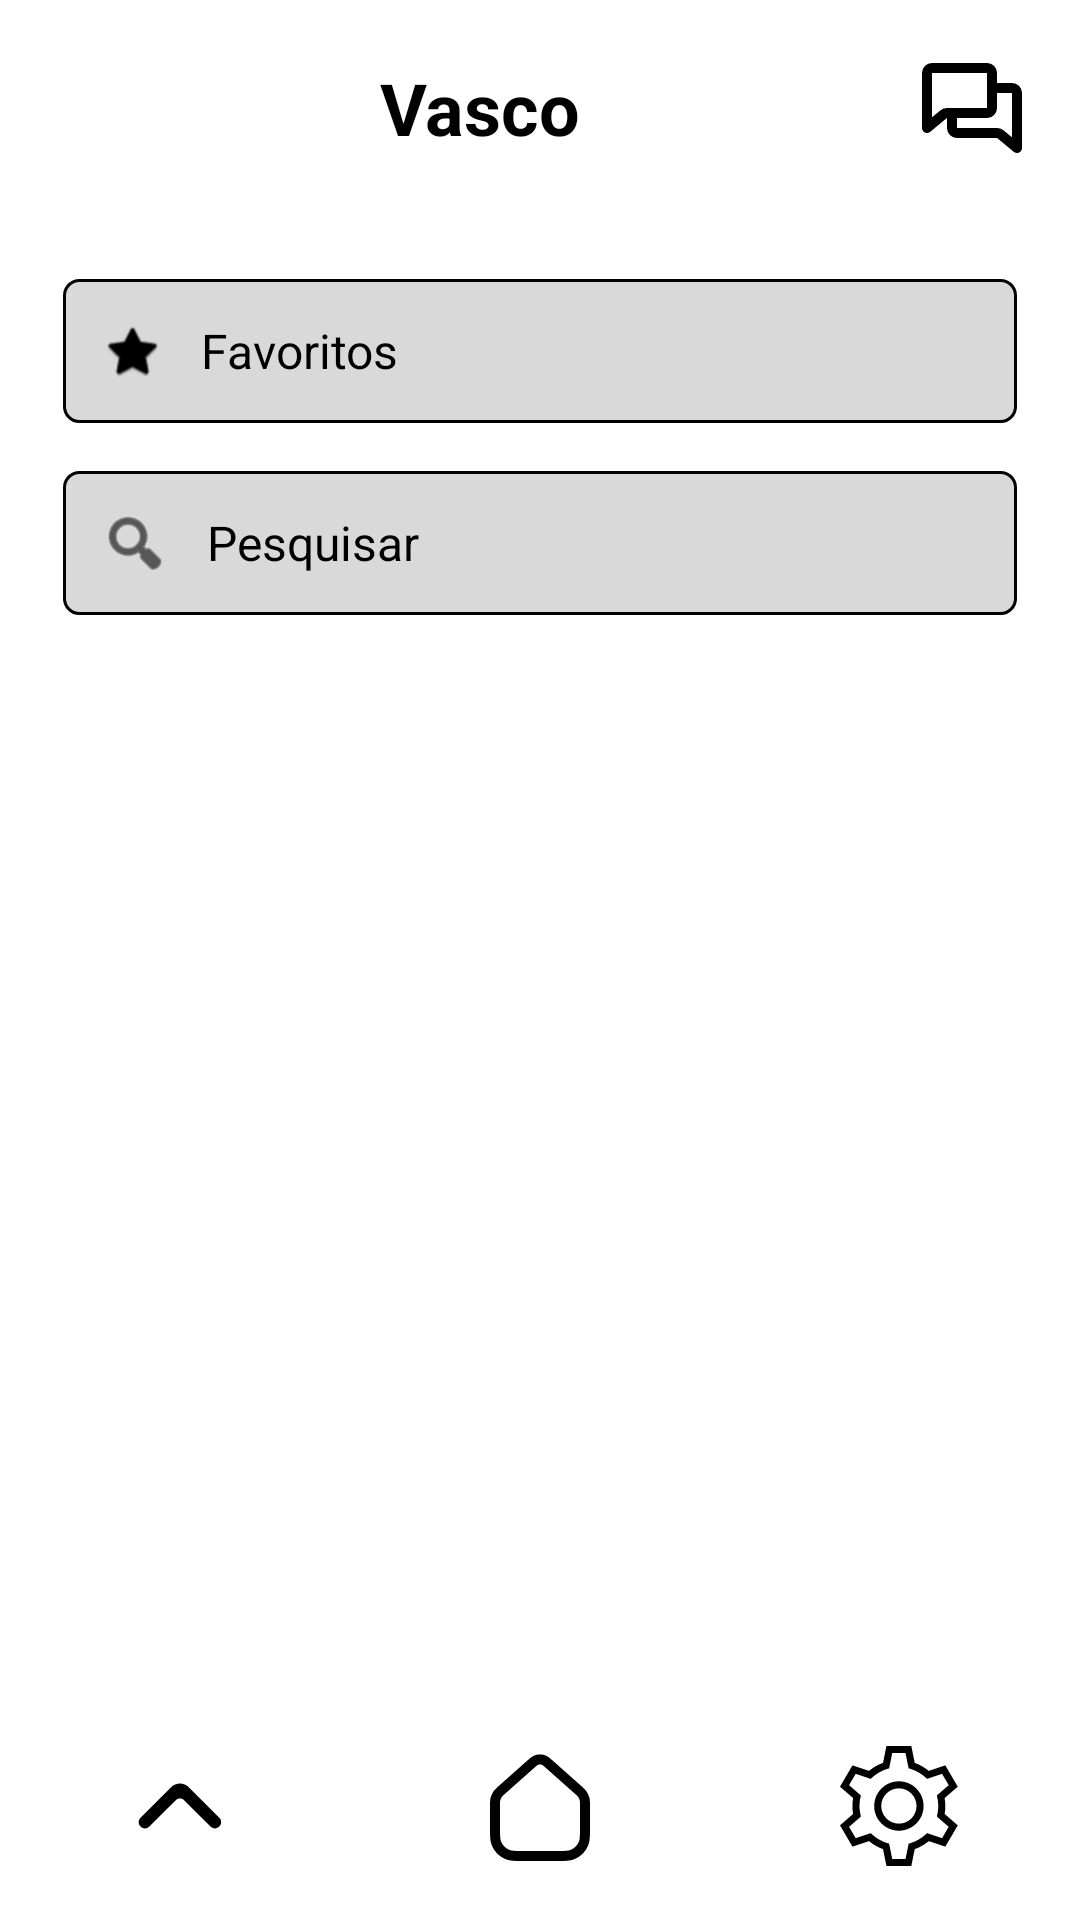

Named icons in this screenshot (1080*1920) and their bounding boxes, (x1,y1,x2,y2):
Chat: (922,63,1022,153)
home: (490,1754,590,1861)
search: (108,517,162,570)
setting: (840,1746,958,1866)
star on: (107,327,158,376)
up arrow: (138,1783,221,1829)
